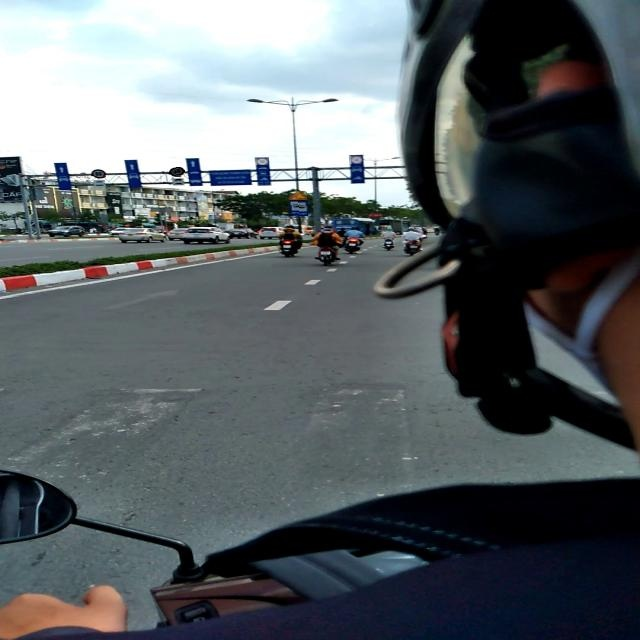bien_cam: (289, 200, 308, 216), (289, 191, 307, 200), (169, 167, 185, 177), (91, 169, 106, 179), (350, 156, 362, 164), (256, 158, 268, 165)
